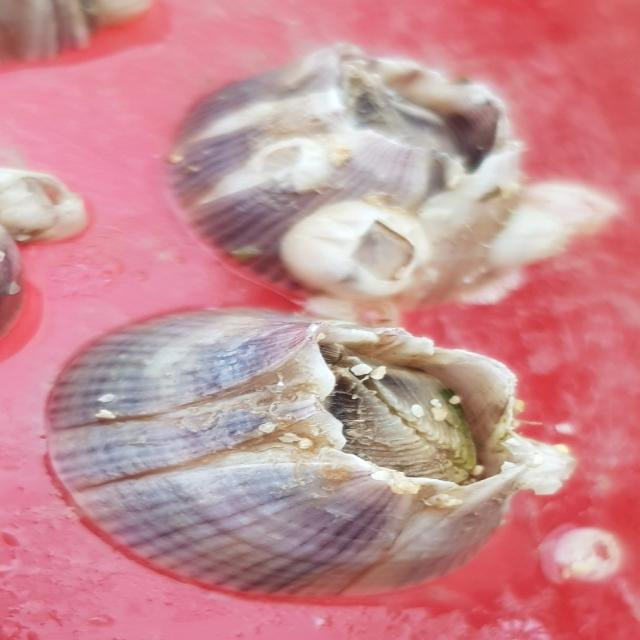barnacles: (53, 309, 537, 603), (171, 41, 564, 296), (267, 196, 446, 306)
